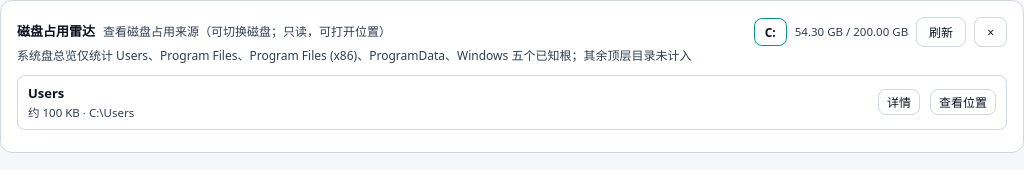
Test: DiskRadarPanel › labels a drilled-down empty folder as such, not as an empty drive
Click the button "详情" at [899, 102], box 878,89 -> 920,115
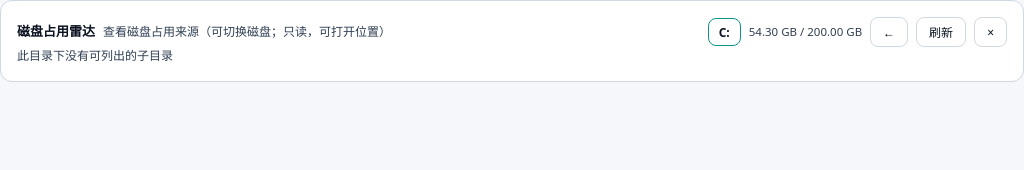
Check: the text "此目录下没有可列出的子目录" is shown, box 17,47 -> 173,64
